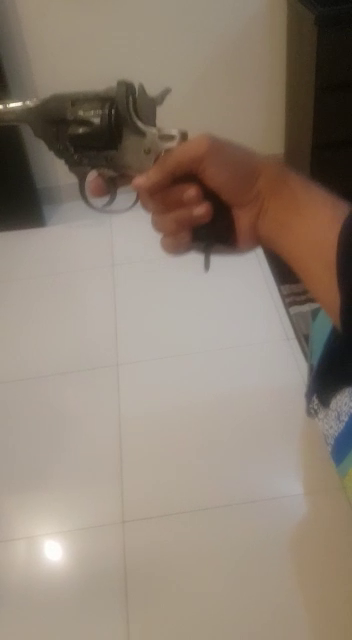handgun: (1, 71, 253, 263)
